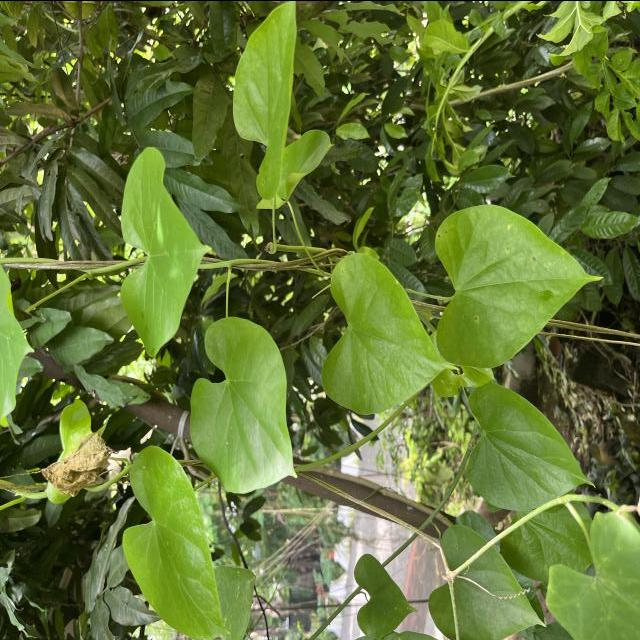Tinospora cordifolia: (430, 200, 606, 370), (317, 249, 463, 417), (120, 440, 234, 640), (113, 141, 214, 362), (186, 314, 300, 496), (462, 378, 598, 514)
